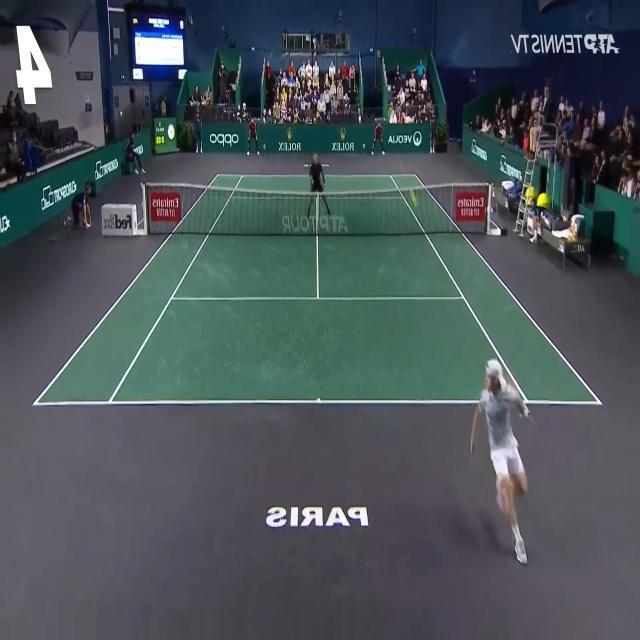court: (32, 174, 604, 406)
net: (145, 182, 487, 235)
player: (469, 354, 531, 565)
